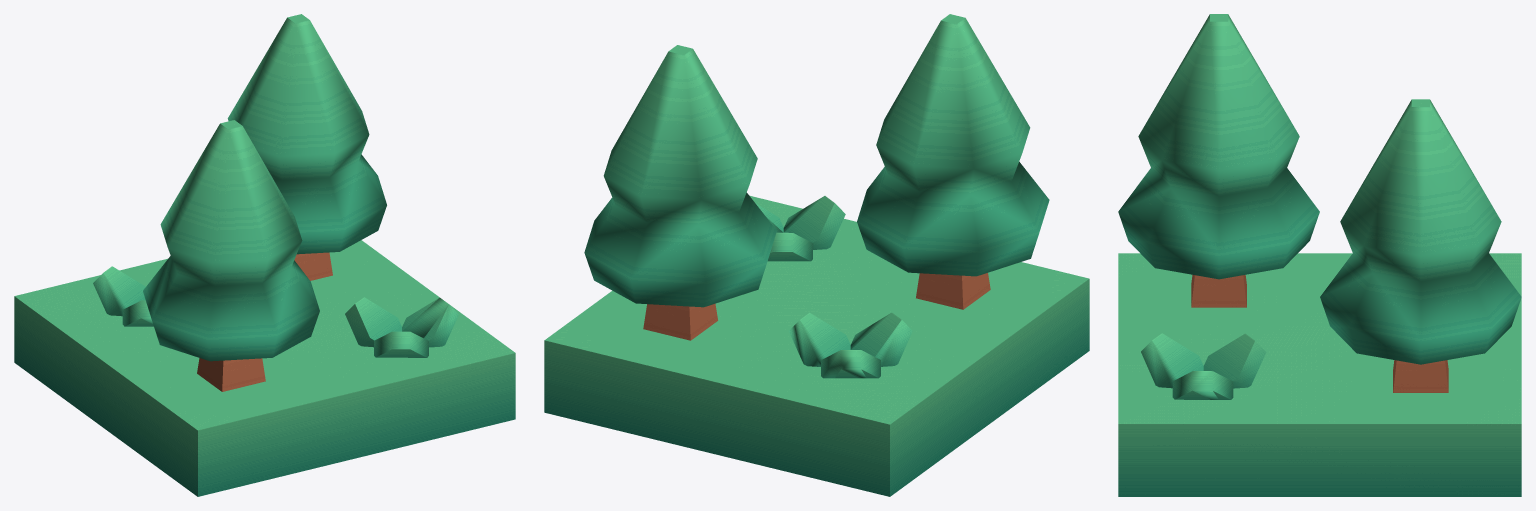
The model's file is tile-tree-double.glb.
3 views of the same model, side by side, from view 1: azimuth 30°, elevation 25°; view 2: azimuth 150°, elevation 25°; view 3: azimuth 270°, elevation 25° (orthographic). The views are drawn at different scales.
Visible parts, largest first — view 1: tile-tree-double; view 2: tile-tree-double; view 3: tile-tree-double.
Part boxes in pixels (x1,y1,x2,y2): tile-tree-double: (14,14,515,496); tile-tree-double: (544,14,1089,496); tile-tree-double: (1118,14,1521,496).
Bounding box in the file's own units: 1 × 0.96 × 1.
Materials: 1 (1 with a texture image).
